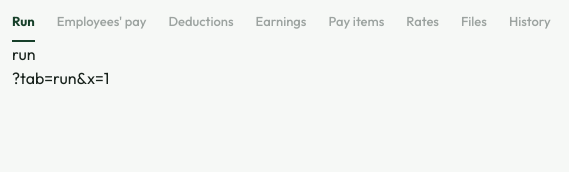
Test: payroll tabs › puts the chosen tab in the address, keeping what else is there
Click the button "History": (530, 27) top-left (509, 12), bottom-right (551, 42)
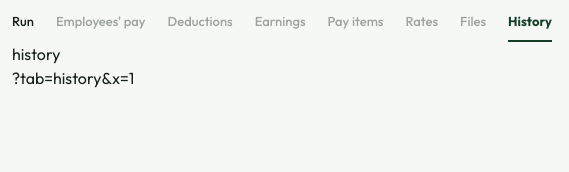
Result: the text with test id "open" reads "history" at top-left (12, 44), bottom-right (60, 64)
